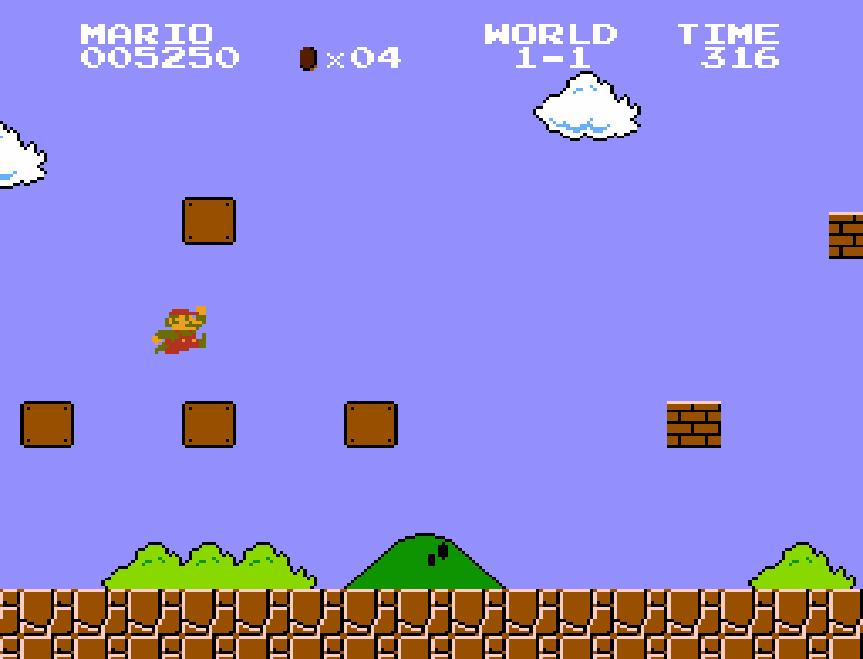little_mario: (148, 304, 206, 354)
